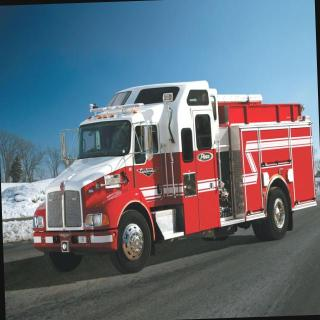Fire_truck: (27, 75, 319, 278)
